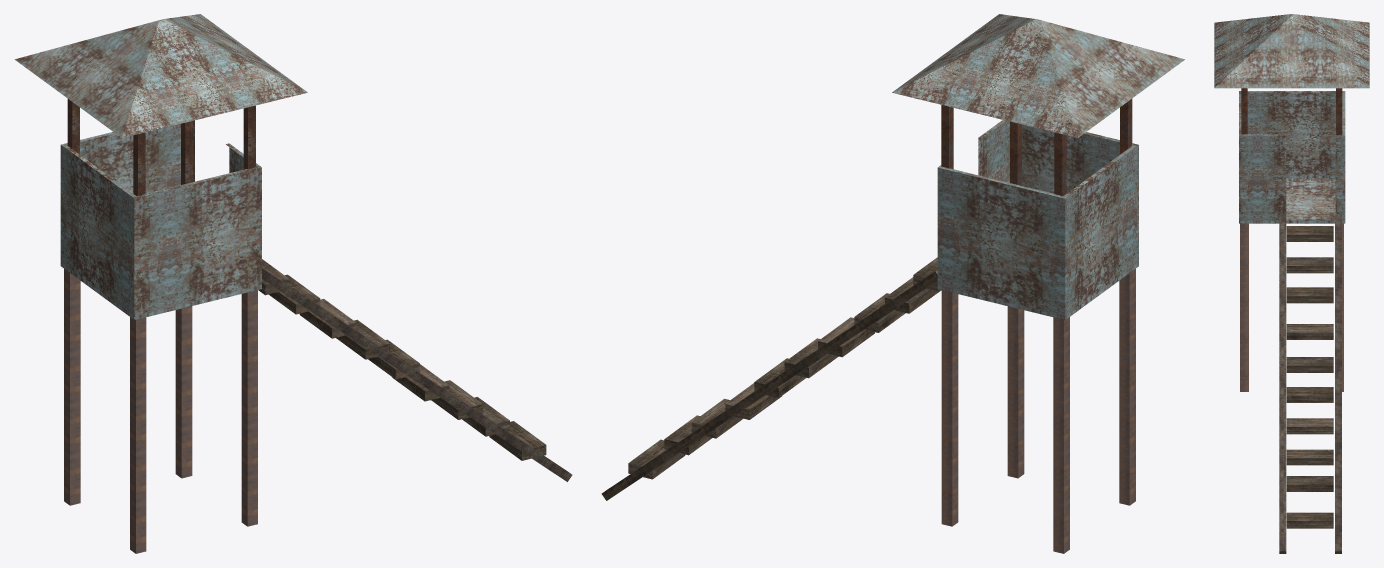
The model's file is torre_vigia.gltf.
3 views of the same model, side by side, from view 1: azimuth 30°, elevation 25°; view 2: azimuth 150°, elevation 25°; view 3: azimuth 270°, elevation 25° (orthographic). The views are drawn at different scales.
Parts seen in each view (by area): view 1: torre_vigia; view 2: torre_vigia; view 3: torre_vigia.
Boxes of the visible parts, left/top/right/bottom form: torre_vigia: left=14, top=14, right=572, bottom=553; torre_vigia: left=601, top=14, right=1184, bottom=553; torre_vigia: left=1214, top=14, right=1369, bottom=553.
Bounding box in the file's own units: 6.57 × 7 × 2.47.
Materials: 4 (4 with a texture image).
